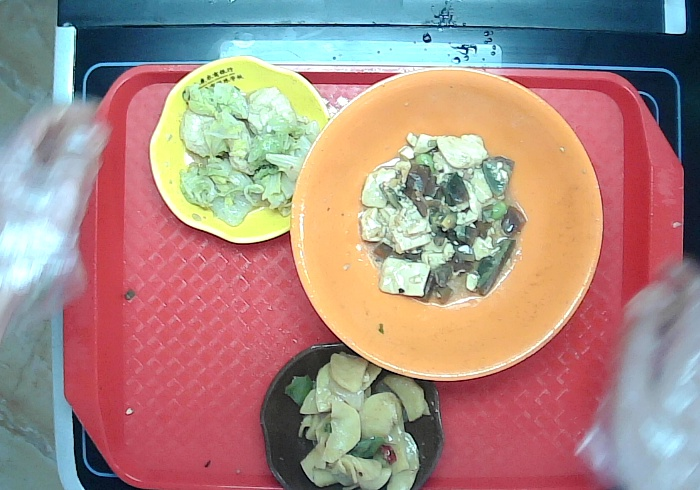YKMZ-Huang_Se_Ao_Bian_Wan: (147, 53, 334, 246)
YKMZ-Ju_Se_Tang_Wan: (286, 65, 606, 382)
YKMZ-Ka_Fei_Ao_Bian_Wan: (256, 339, 447, 490)
